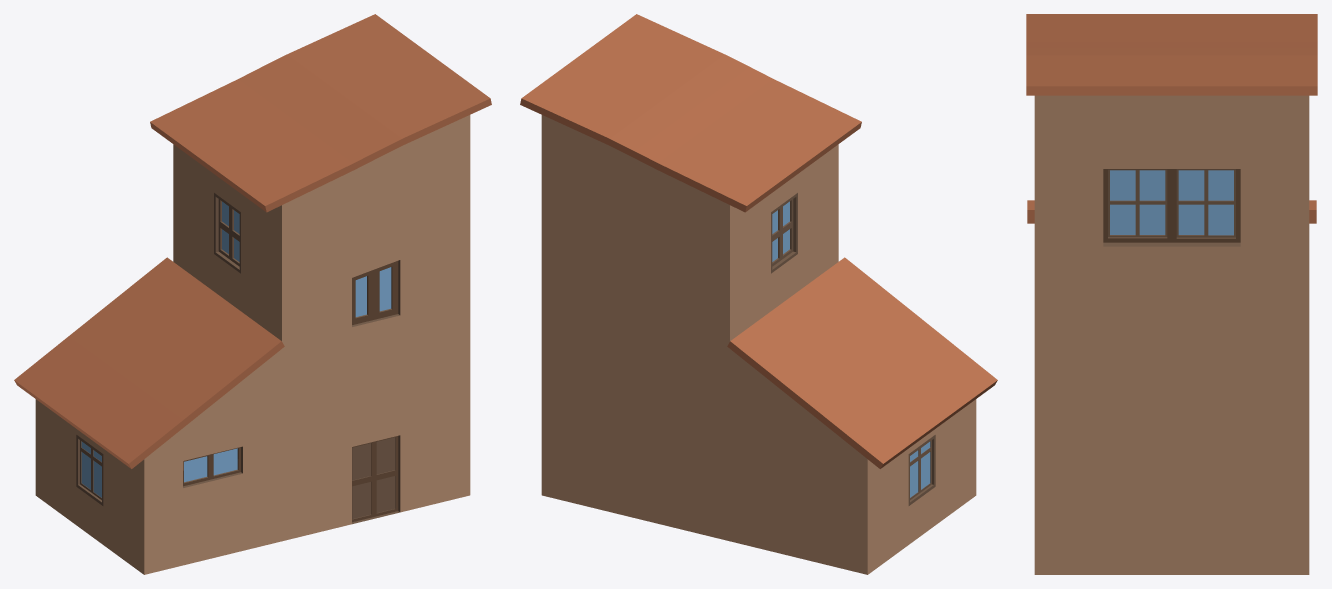
File: House_002.fbx
3 views of the same model, side by side, from view 1: azimuth 30°, elevation 25°; view 2: azimuth 150°, elevation 25°; view 3: azimuth 270°, elevation 25° (orthographic). The views are drawn at different scales.
Visible parts, largest first — view 1: House_002; view 2: House_002; view 3: House_002.
Part boxes in pixels (x1,y1,x2,y2): House_002: (14, 14, 491, 574); House_002: (520, 14, 997, 574); House_002: (1026, 14, 1317, 574).
Size of the model in its own units: 1357 by 1413 by 747.
